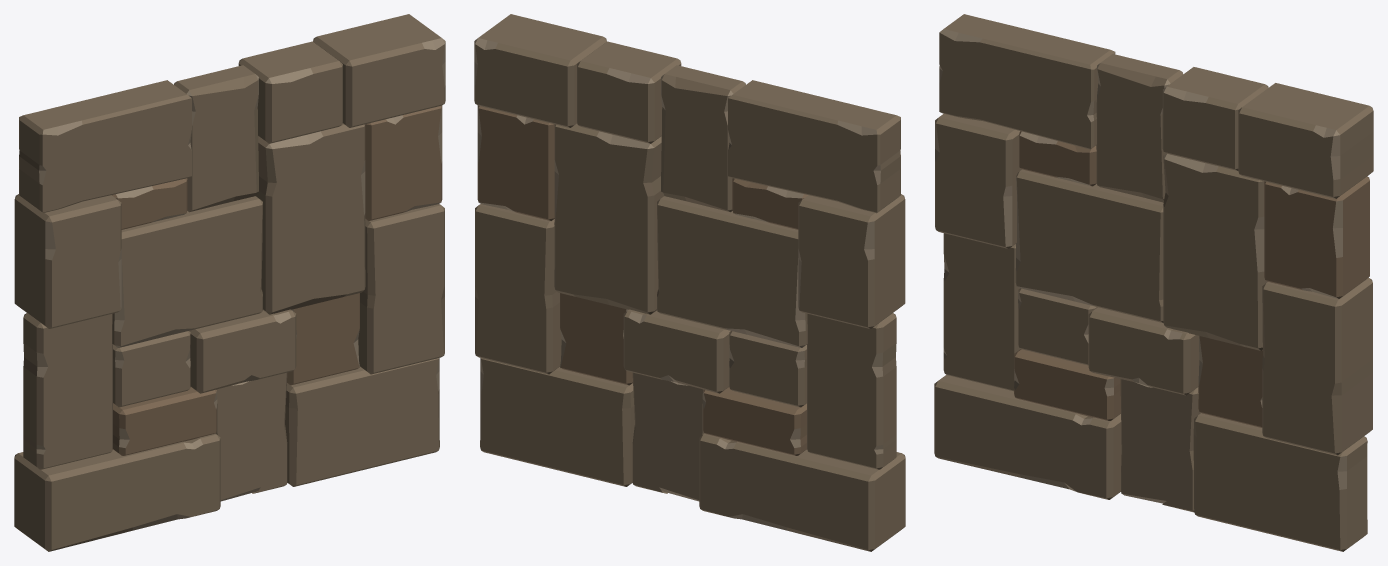
Rendered from wall.glb.
3 views of the same model, side by side, from view 1: azimuth 30°, elevation 25°; view 2: azimuth 150°, elevation 25°; view 3: azimuth 330°, elevation 25° (orthographic).
Parts seen in each view (by area): view 1: Wall_Modular; view 2: Wall_Modular; view 3: Wall_Modular.
Boxes of the visible parts, bbox=[...] form: Wall_Modular: bbox=[14, 14, 445, 551]; Wall_Modular: bbox=[474, 14, 905, 551]; Wall_Modular: bbox=[934, 14, 1373, 551].
Size of the model in its own units: 6 by 6 by 1.
